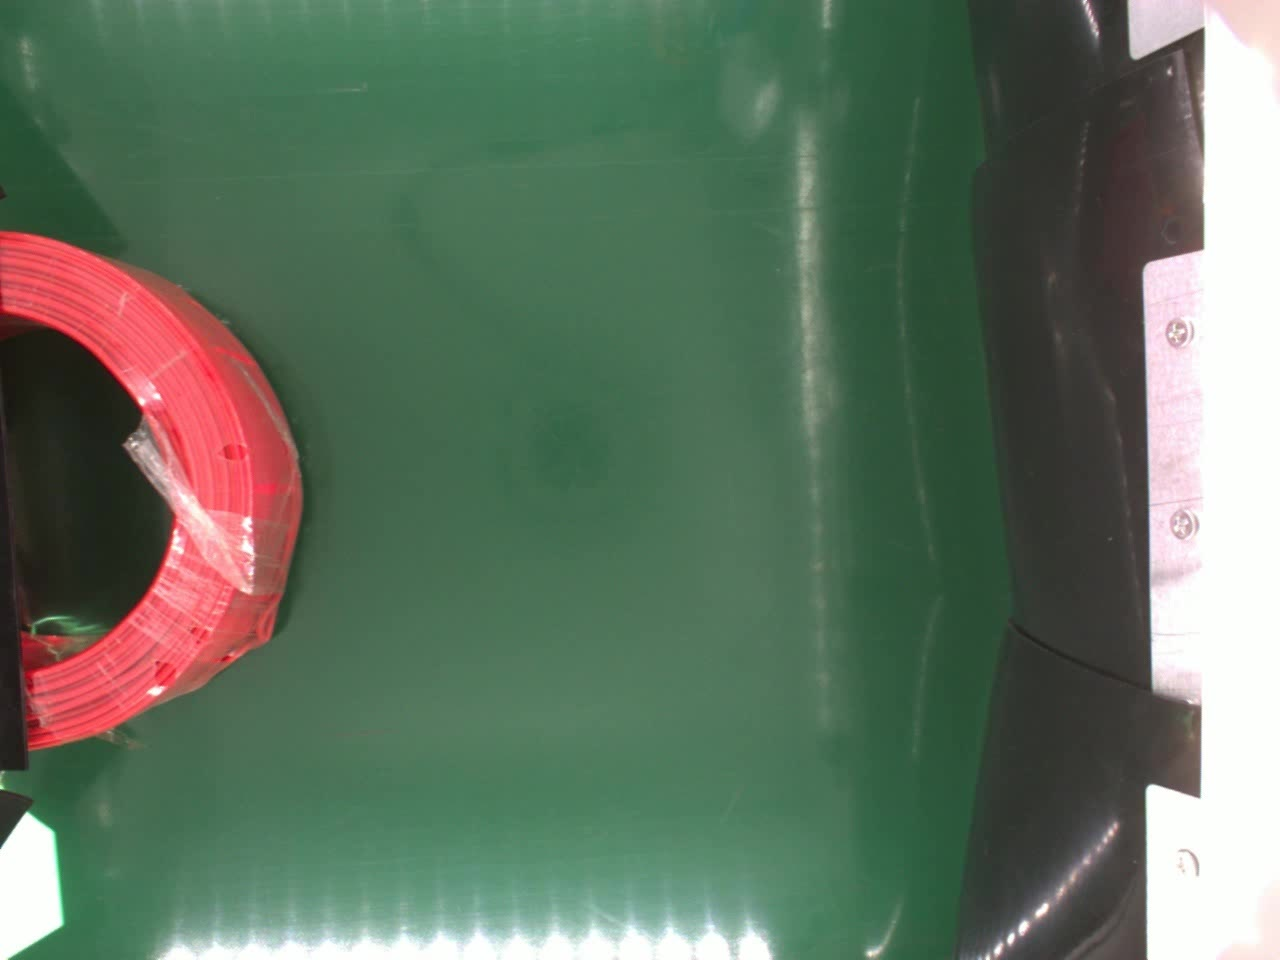red: (0, 229, 304, 742)
